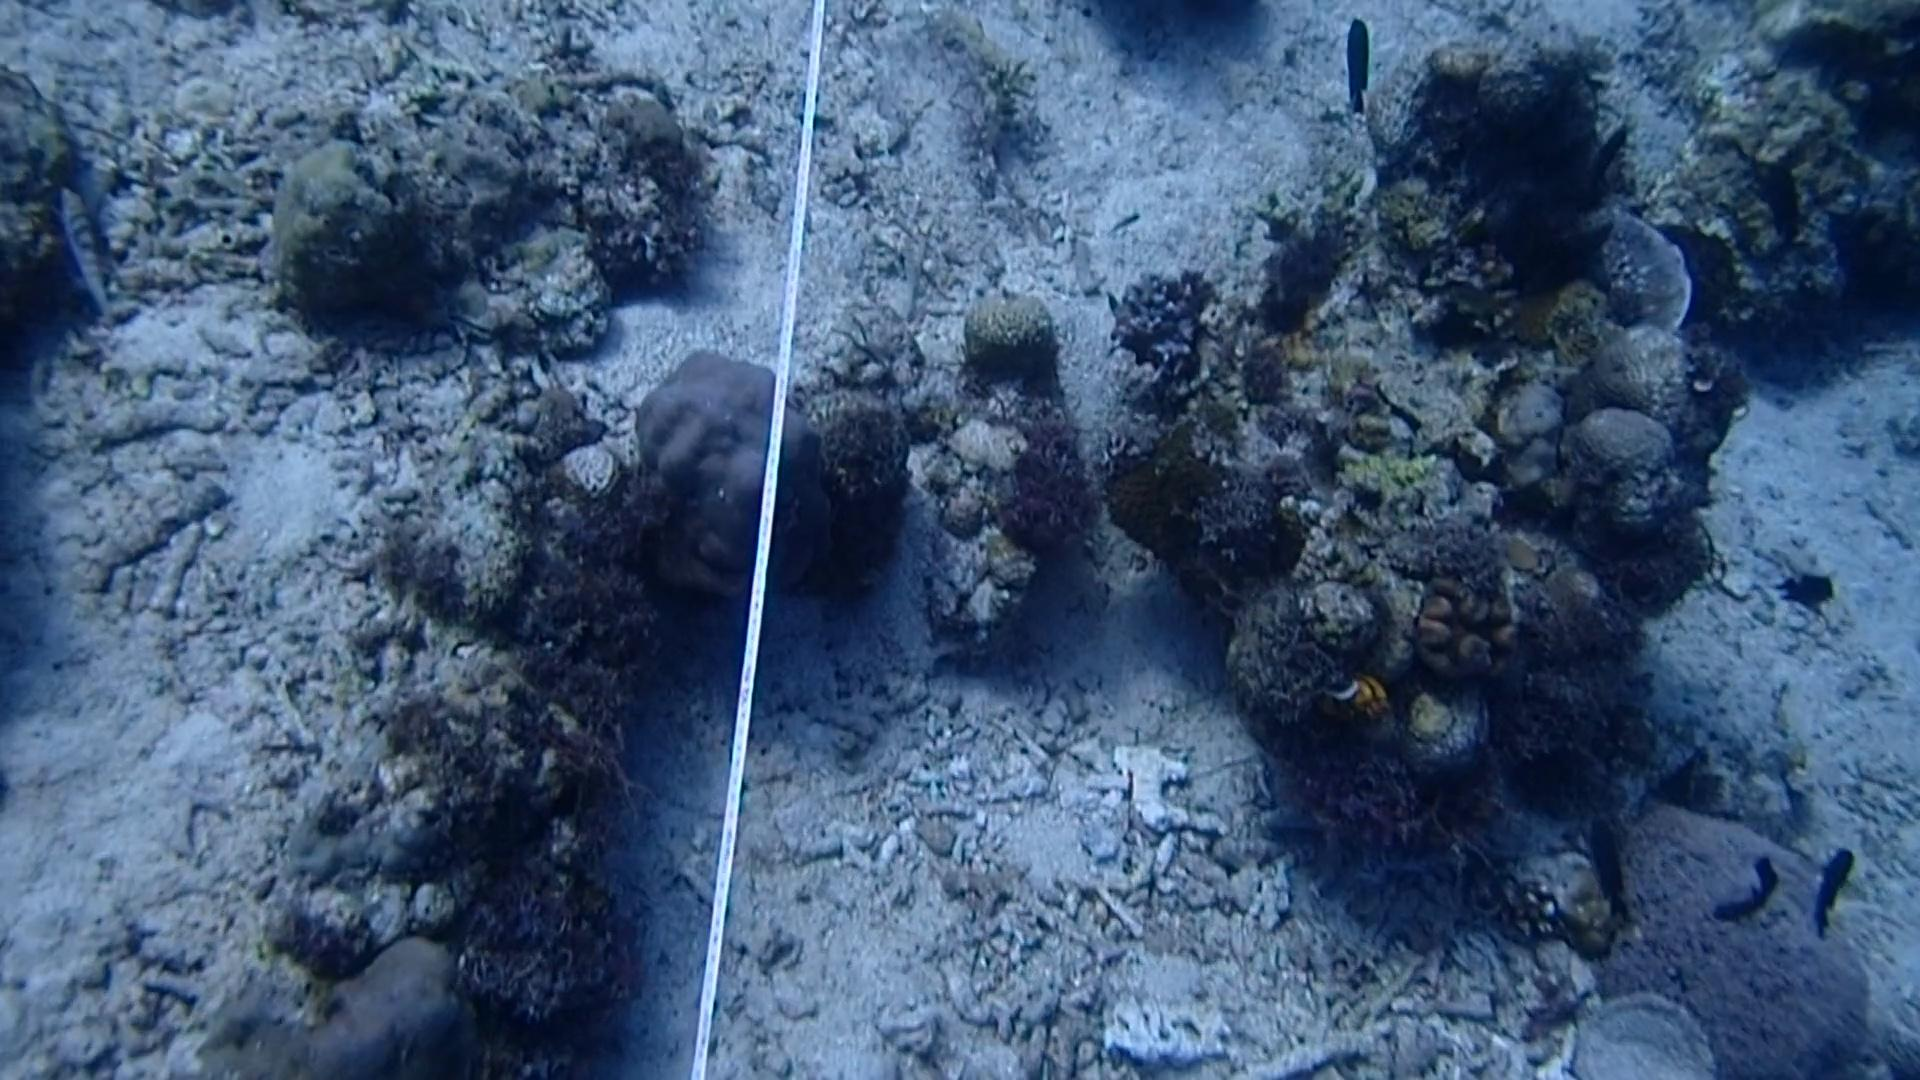Dark Fish: (1565, 810, 1640, 924), (1698, 851, 1793, 936), (1747, 146, 1812, 253), (1336, 8, 1389, 129), (1801, 836, 1866, 934), (1571, 111, 1639, 202), (1772, 555, 1841, 621)
Light Fish w Back Stripes: (44, 178, 138, 336)
